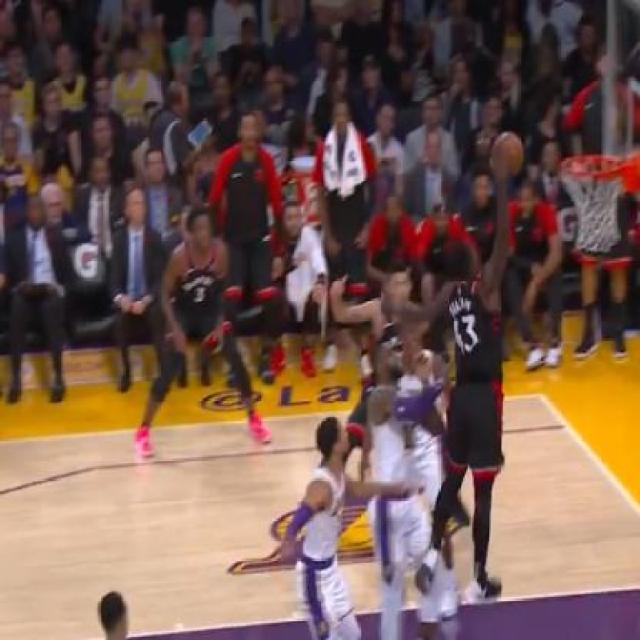basketball: (492, 132, 524, 176)
rim: (558, 152, 626, 255)
